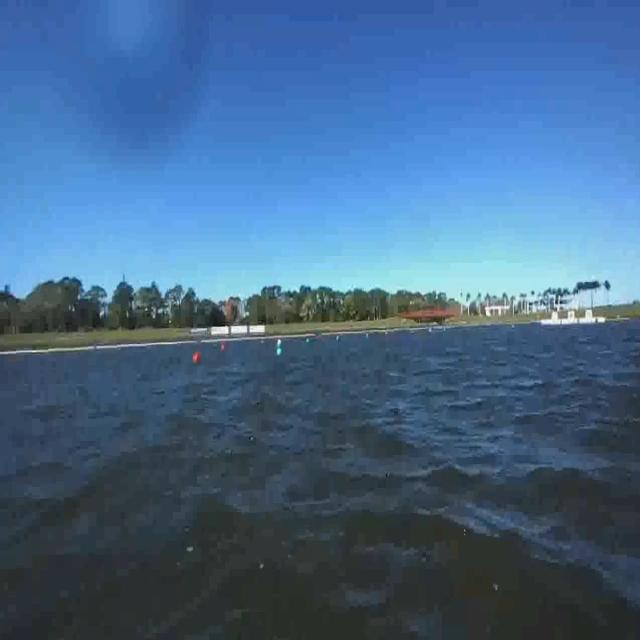red-buoy: (192, 351, 200, 364)
